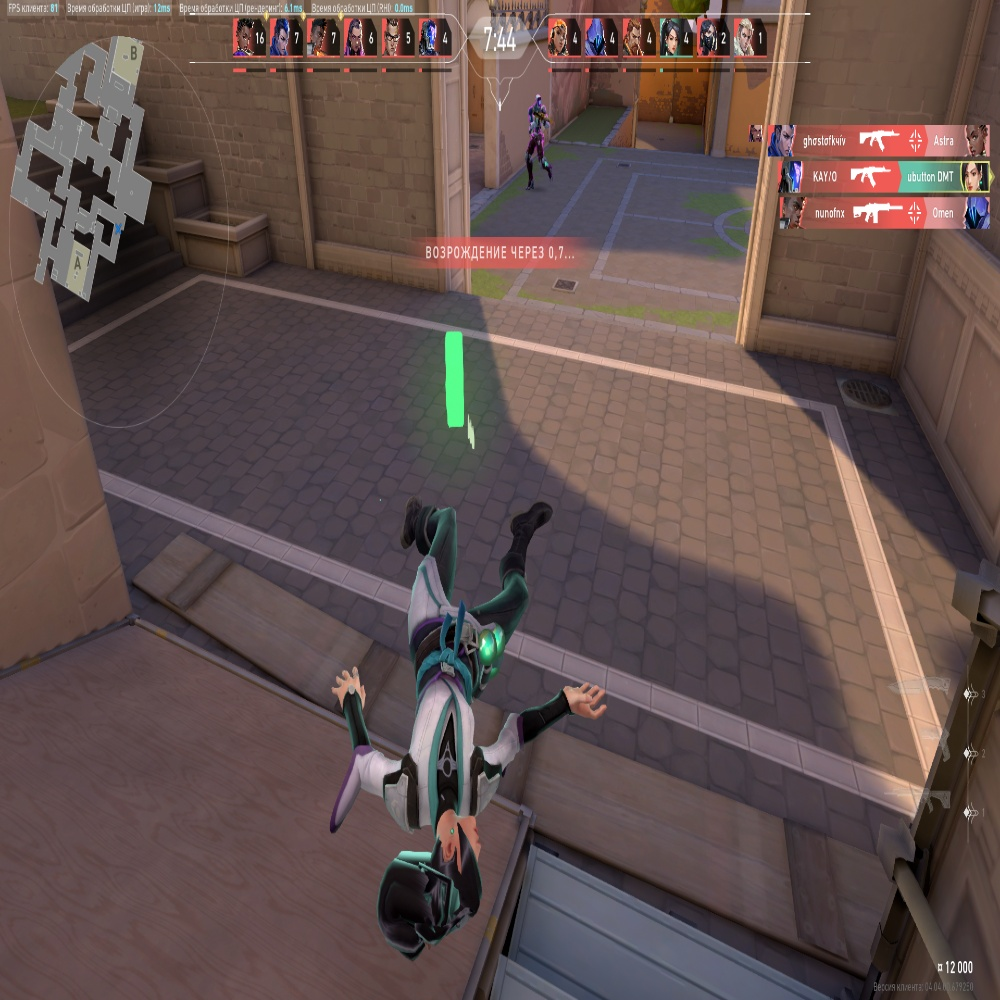body: (530, 108, 544, 136)
head: (536, 96, 541, 106)
